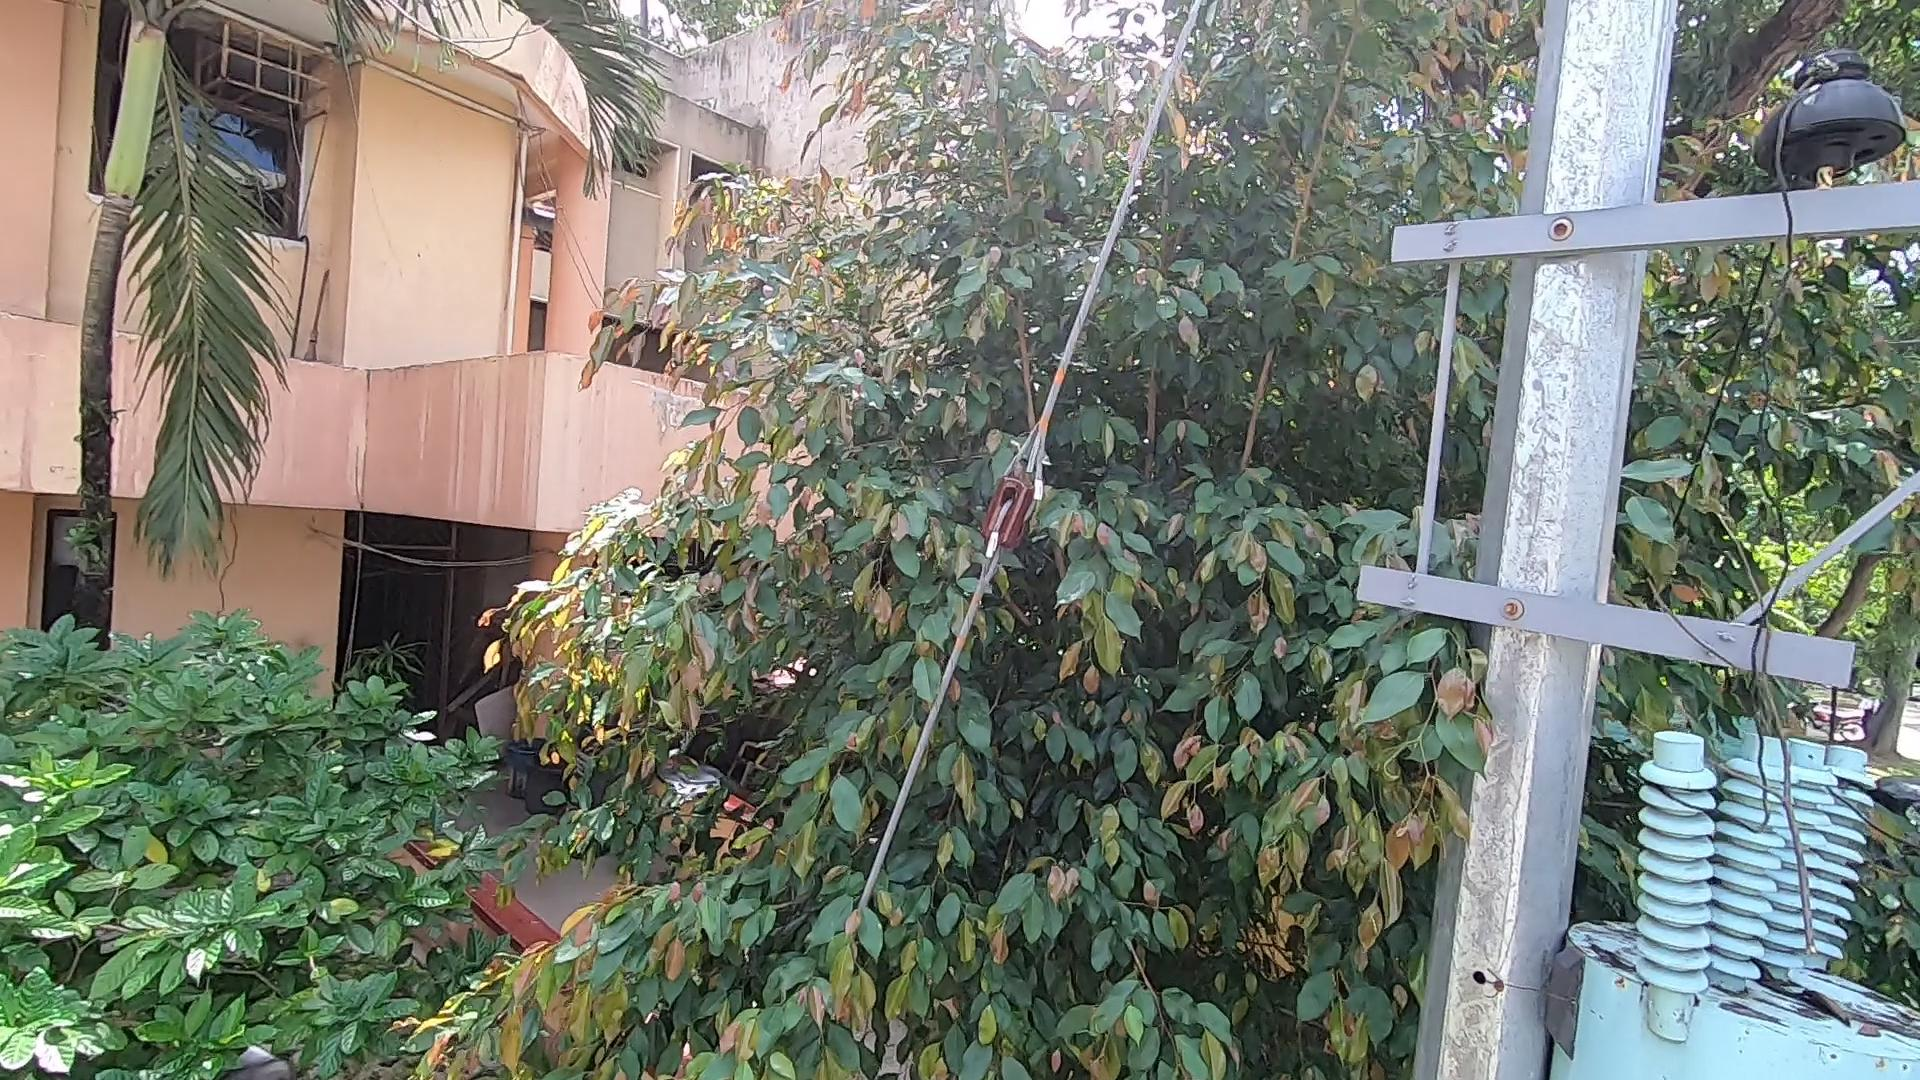leaf: (1760, 964, 1858, 1029)
tree branch: (1648, 475, 1842, 967)
